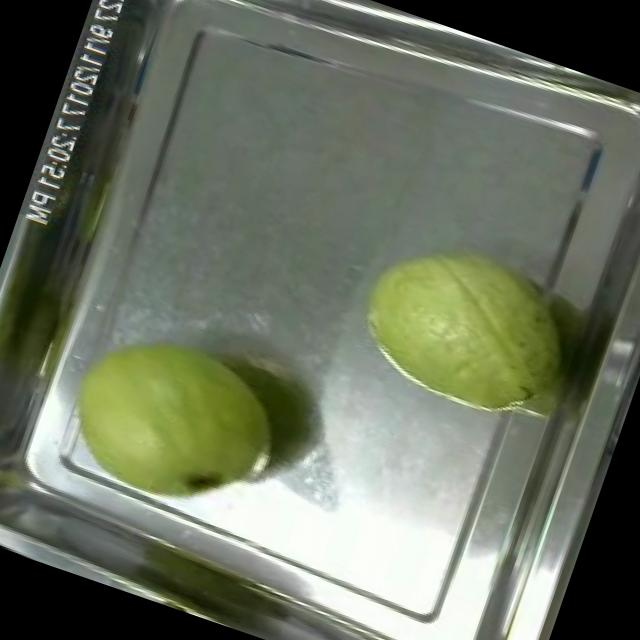Fruit: (33, 300, 307, 548), (332, 206, 594, 442)
